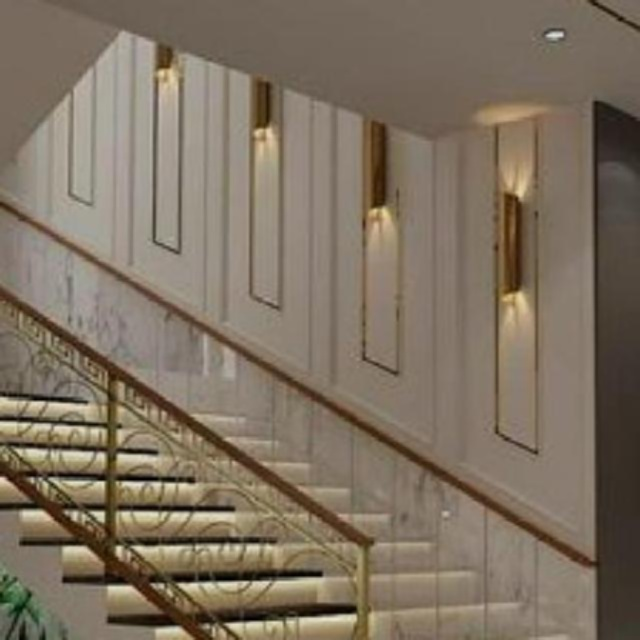stair: (2, 351, 603, 638)
